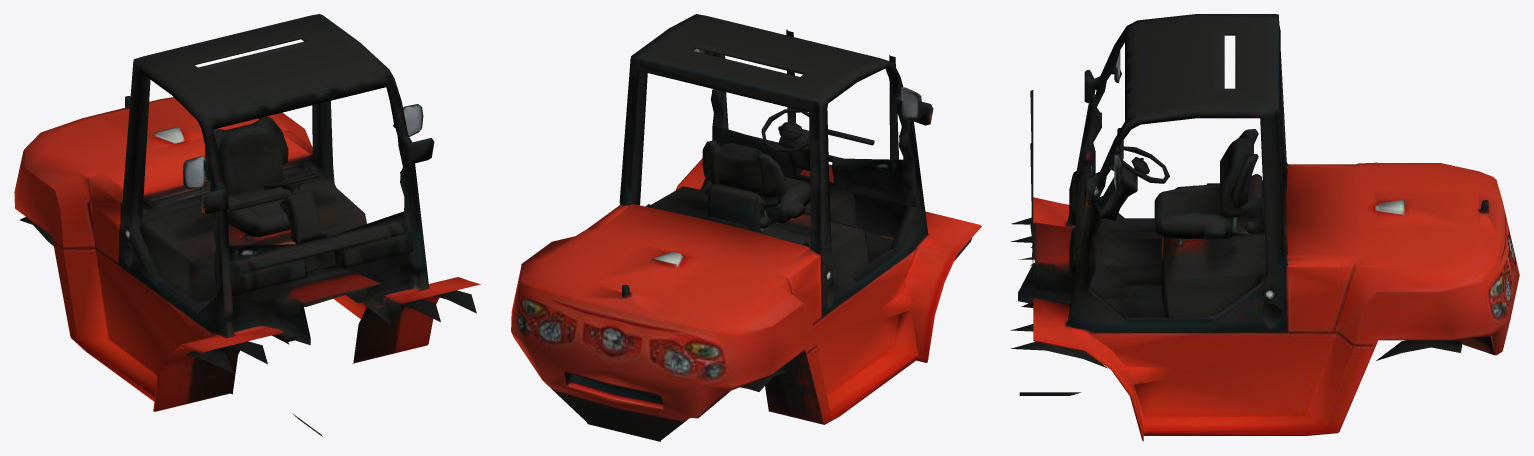
The picture shows the model from 3 angles, left to right: view 1: azimuth 30°, elevation 25°; view 2: azimuth 150°, elevation 25°; view 3: azimuth 270°, elevation 25°; orthographic projection. The views are drawn at different scales.
Parts seen in each view (by area): view 1: tripo_node_cfd64191-f193-4c72-96ac-1e90d5ca40f6, steer; view 2: tripo_node_cfd64191-f193-4c72-96ac-1e90d5ca40f6, steer; view 3: tripo_node_cfd64191-f193-4c72-96ac-1e90d5ca40f6, steer.
Boxes of the visible parts, x1,y1,x2,y2 form: tripo_node_cfd64191-f193-4c72-96ac-1e90d5ca40f6: (14,14,480,436); steer: (249,173,318,225); tripo_node_cfd64191-f193-4c72-96ac-1e90d5ca40f6: (511,14,981,441); steer: (761,109,809,185); tripo_node_cfd64191-f193-4c72-96ac-1e90d5ca40f6: (1010,14,1519,441); steer: (1119,146,1169,226).
Bounding box in the file's own units: 1.35 × 1.42 × 2.05.
Materials: 1 (1 with a texture image).
